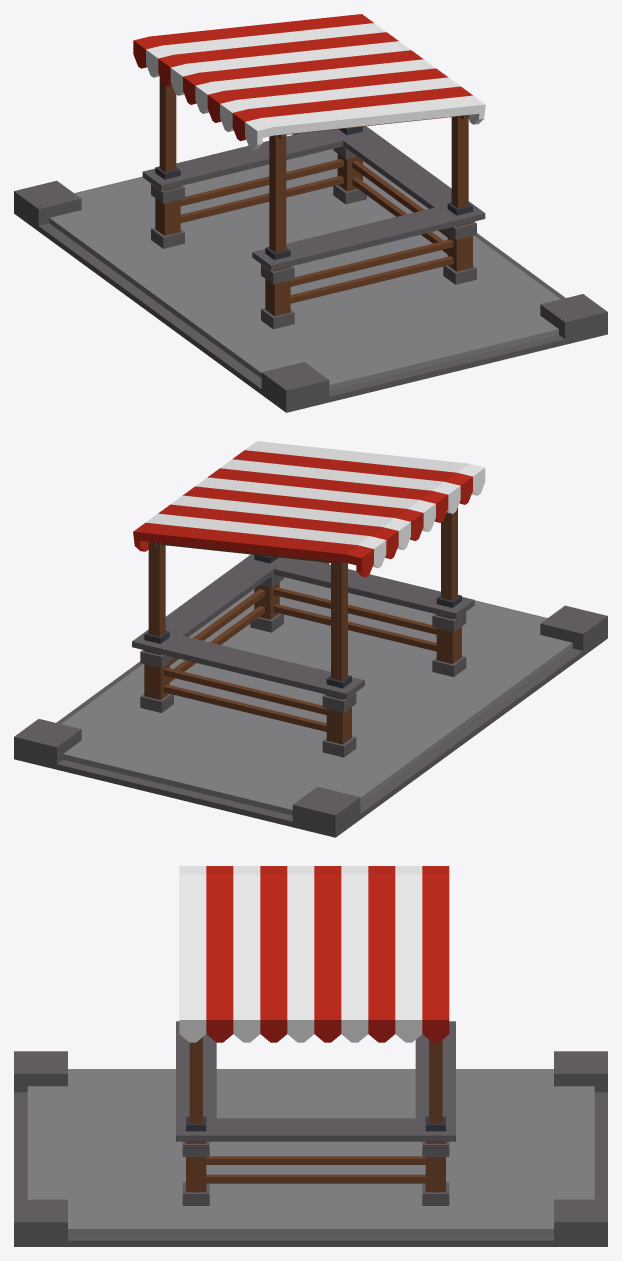
File: baseupgrade.fbx
The picture shows the model from 3 angles, top to bottom: view 1: azimuth 30°, elevation 25°; view 2: azimuth 150°, elevation 25°; view 3: azimuth 270°, elevation 25°; orthographic projection. The views are drawn at different scales.
Parts seen in each view (by area): view 1: baseupgrade; view 2: baseupgrade; view 3: baseupgrade.
Part boxes in pixels (bbox=[...]): baseupgrade: bbox=[14, 14, 607, 412]; baseupgrade: bbox=[14, 441, 607, 837]; baseupgrade: bbox=[14, 866, 607, 1246].
Size of the model in its own units: 1500 by 958 by 2200.
